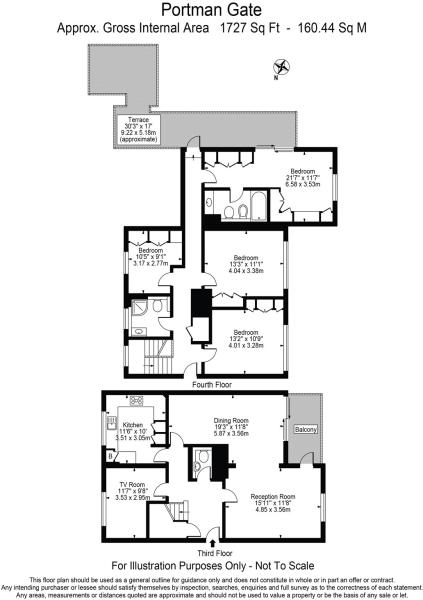GardenMeasurements: (119, 116, 159, 143)
GrossArea: (55, 20, 369, 37)
